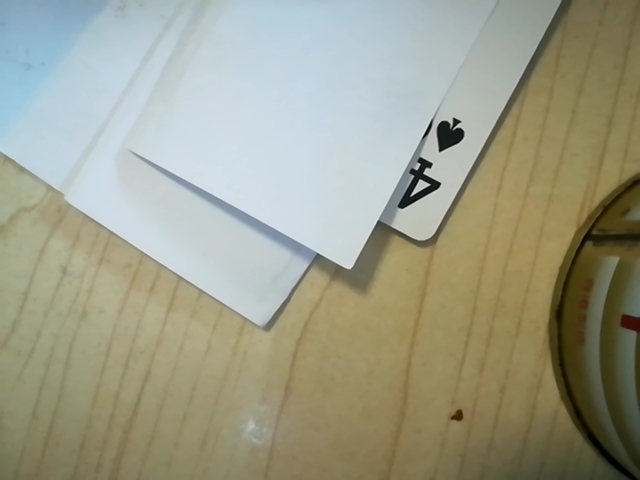ht 4: (376, 98, 482, 232)
